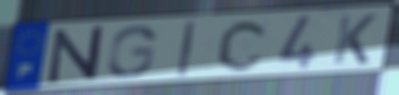4: (276, 14, 318, 72)
C: (215, 18, 272, 73)
G: (105, 24, 159, 79)
I: (175, 20, 198, 78)
K: (330, 13, 379, 66)
N: (46, 24, 106, 86)
